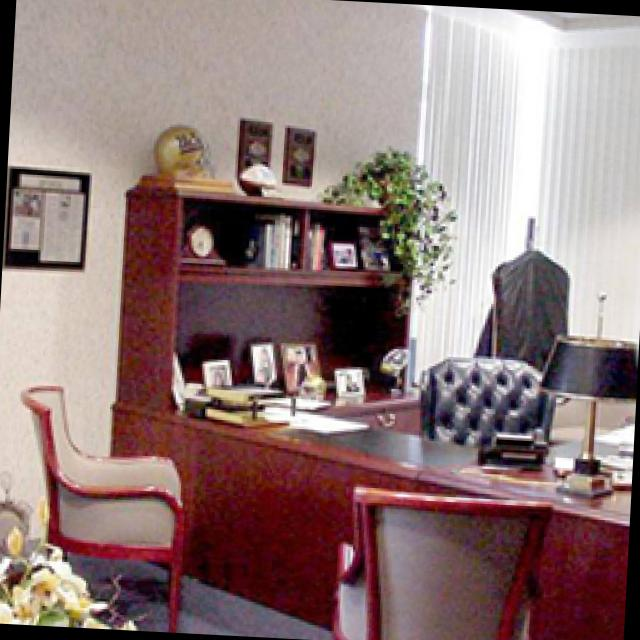2001: (410, 13, 522, 373), (539, 43, 640, 329)
books crop: (238, 211, 294, 266), (291, 209, 324, 268)
bouquet: (0, 524, 139, 626)
chair -occluded-: (18, 381, 181, 620), (330, 487, 546, 640), (419, 356, 547, 441)
clock crop: (175, 218, 223, 261)
coat: (518, 215, 535, 253)
desk calendar: (105, 385, 627, 640)
file cabinet: (194, 379, 294, 426)
garment bag: (466, 213, 568, 369)
lamp crop: (534, 332, 632, 498)
paper cup with straws: (285, 409, 365, 436), (253, 402, 313, 421), (256, 394, 328, 407), (592, 419, 629, 444)
phone charger: (471, 421, 551, 464)
picture occluded: (271, 335, 322, 391), (355, 224, 390, 266), (244, 338, 274, 383), (330, 362, 361, 395), (198, 355, 229, 386), (328, 239, 356, 263)
plant -x: (314, 146, 459, 311)
plaque: (2, 161, 90, 272), (235, 115, 270, 180), (280, 120, 312, 187)
shelves crop: (116, 183, 409, 407)
statue: (135, 122, 237, 193)
